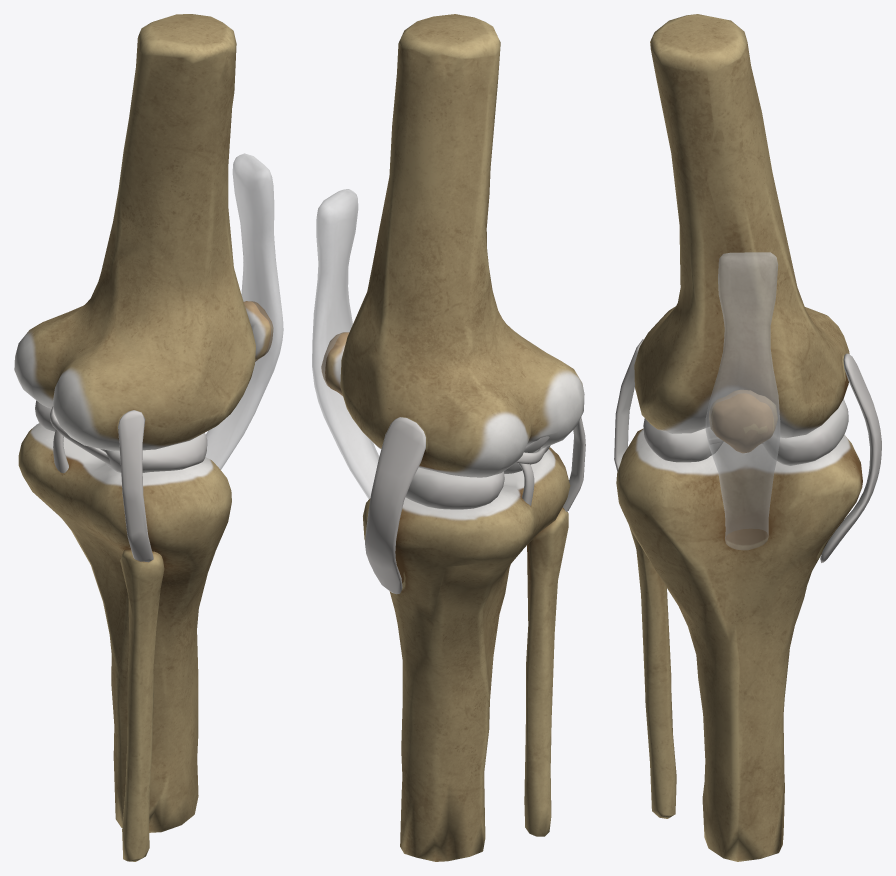
3 renders of one model, left to right at view 1: azimuth 30°, elevation 25°; view 2: azimuth 150°, elevation 25°; view 3: azimuth 270°, elevation 25°, orthographic. The views are drawn at different scales.
Visible parts, largest first — view 1: Bone_Low, Transparenty_Low, Mash_Low; view 2: Bone_Low, Mash_Low, Transparenty_Low; view 3: Bone_Low, Transparenty_Low, Mash_Low.
Part boxes in pixels (x1,y1,x2,y2): Bone_Low: (14,14,255,861); Transparenty_Low: (205,153,283,469); Mash_Low: (35,301,273,562); Bone_Low: (340,14,584,861); Mash_Low: (321,332,585,594); Transparenty_Low: (312,189,379,498); Bone_Low: (616,14,862,861); Transparenty_Low: (705,252,780,549); Mash_Low: (614,339,881,562).
Bounding box in the file's own units: 0.0457 × 0.1498 × 0.0443.
3 materials, 3 textured.
